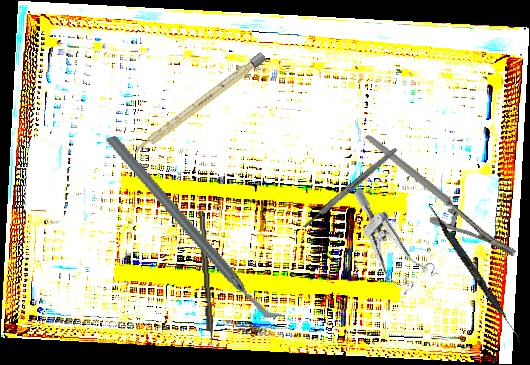Chopper: (105, 103, 286, 353)
Hook Surgical: (198, 210, 215, 351)
Needle Holder: (363, 99, 520, 291)
Scalpel Handle: (132, 51, 267, 157), (302, 146, 399, 230)
Spatula Surgical: (423, 202, 527, 345)
Speculum: (326, 187, 446, 303)
